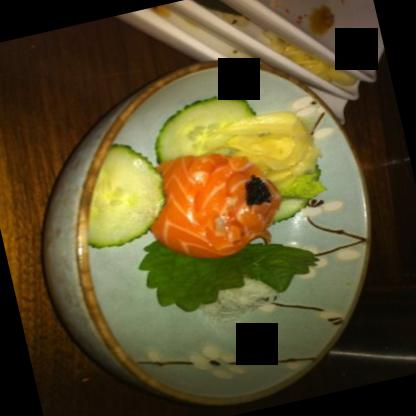salmon: (132, 140, 284, 272)
